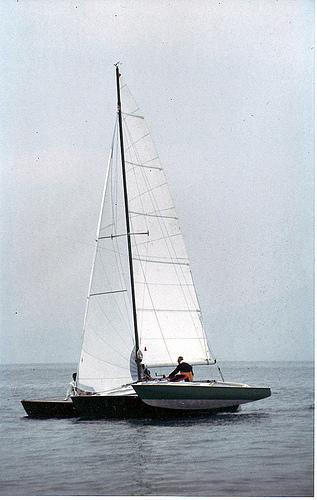Ship: (22, 69, 273, 418)
